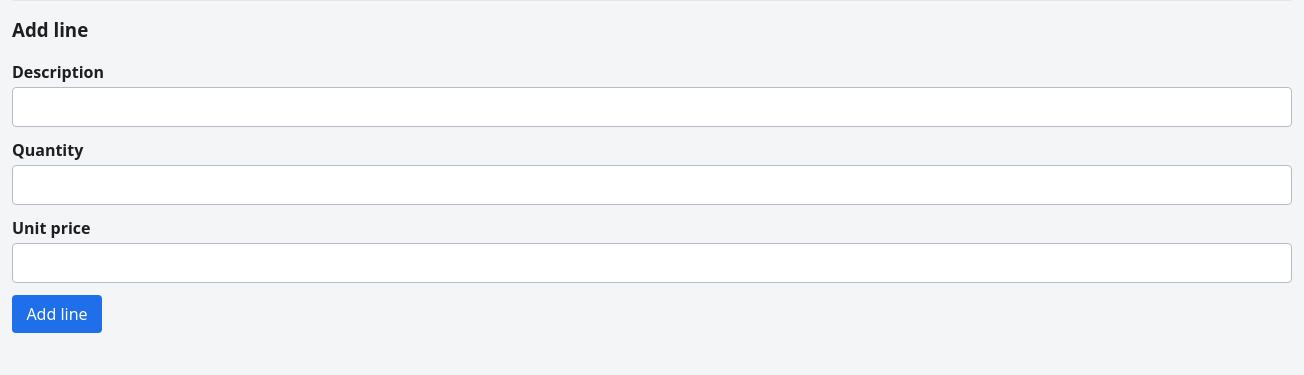
Test: T-11 OrderLineForm › rejects quantity 0
Step 1. Type "Widget" into the field labelled "Description" → coordinates (652, 107), box [12, 87, 1292, 127]
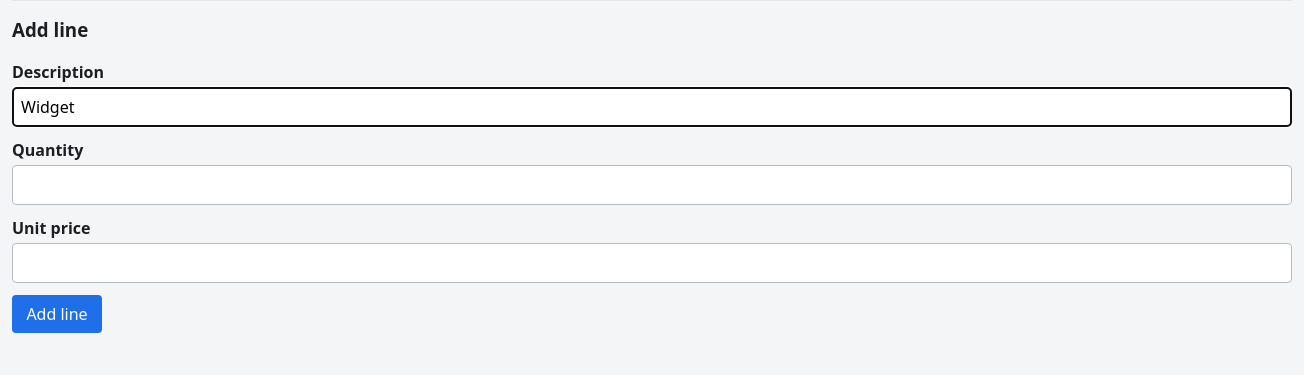
Step 2. Type "0" into the field labelled "Quantity" → coordinates (652, 185), box [12, 165, 1292, 205]
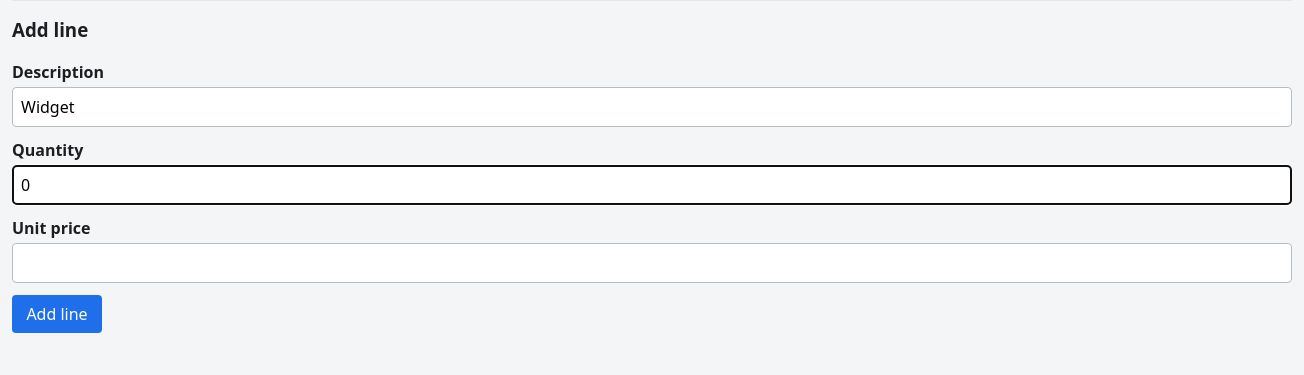
Step 3. Type "1" into the field labelled "Unit price" → coordinates (652, 263), box [12, 243, 1292, 283]
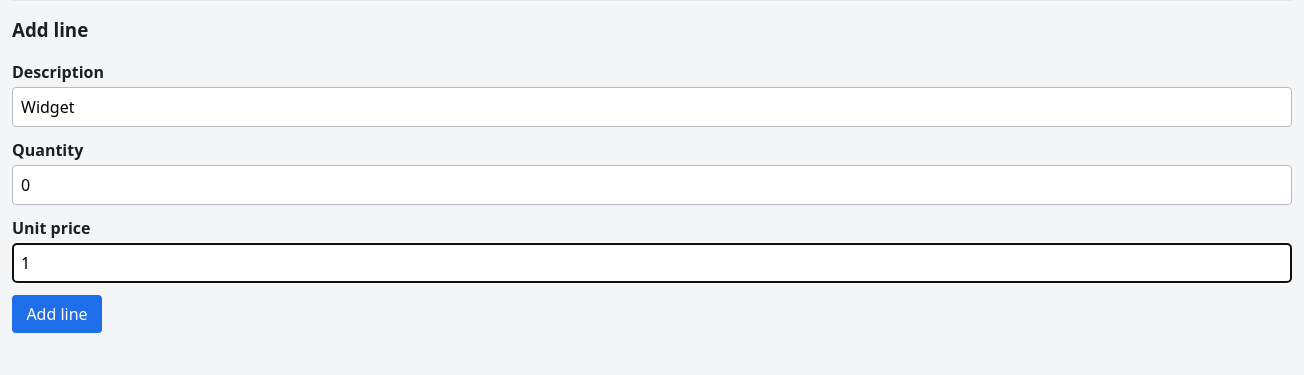
Step 4. Click the button "Add line" → coordinates (57, 314), box [12, 295, 102, 333]
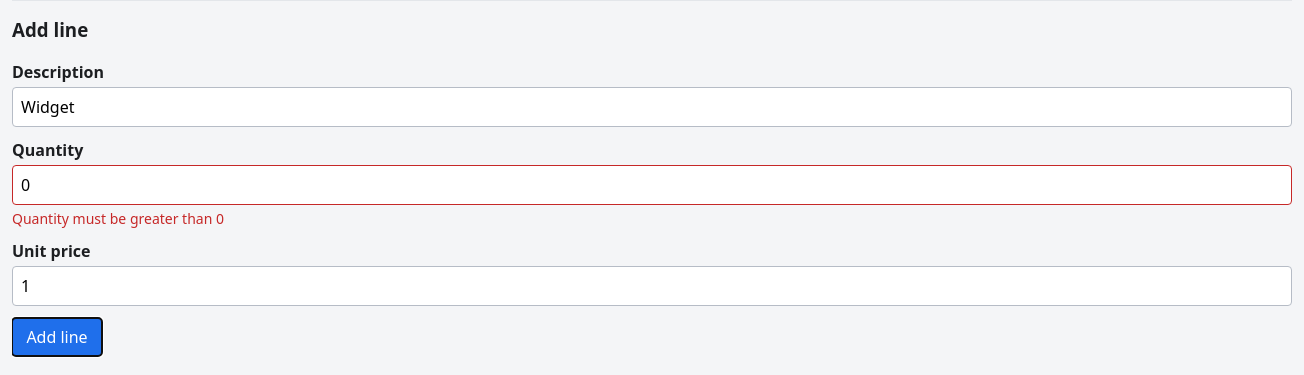
Now the text "Quantity must be greater than 0" is shown, box [12, 209, 224, 228]
